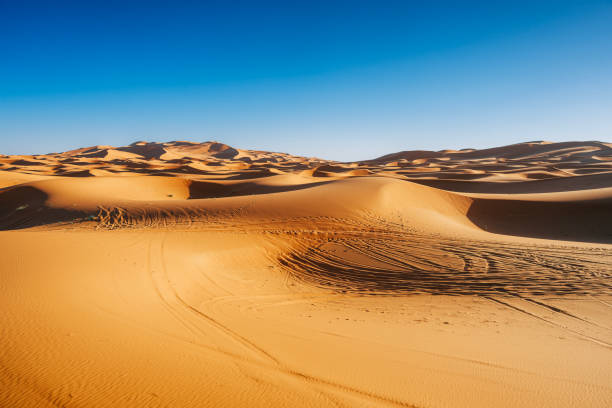vehicle_track: (148, 234, 414, 407), (278, 231, 611, 347), (279, 233, 611, 295)
